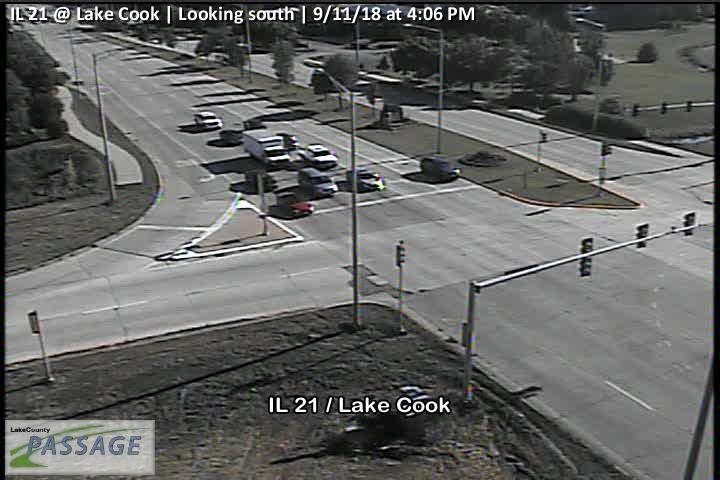Sedan: (296, 166, 337, 196), (295, 141, 338, 169), (277, 190, 315, 217), (246, 168, 281, 193), (346, 166, 383, 189), (193, 111, 223, 130), (218, 127, 245, 144)
Truck: (241, 126, 290, 168)
